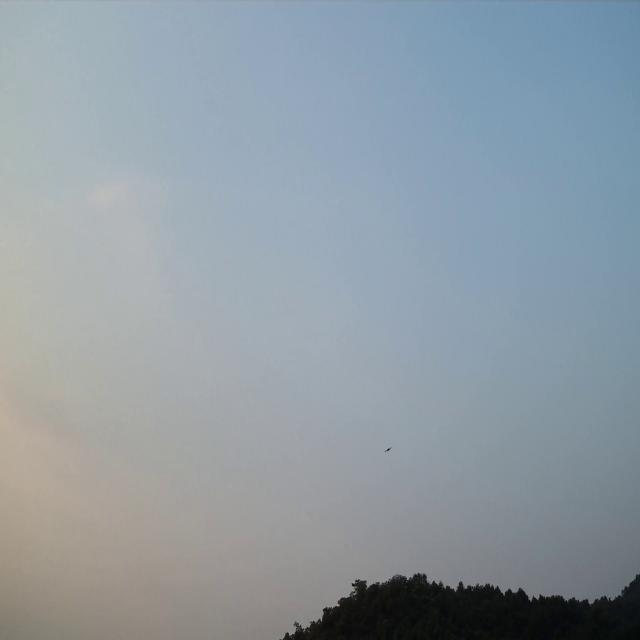UAV: (385, 446, 393, 454)
